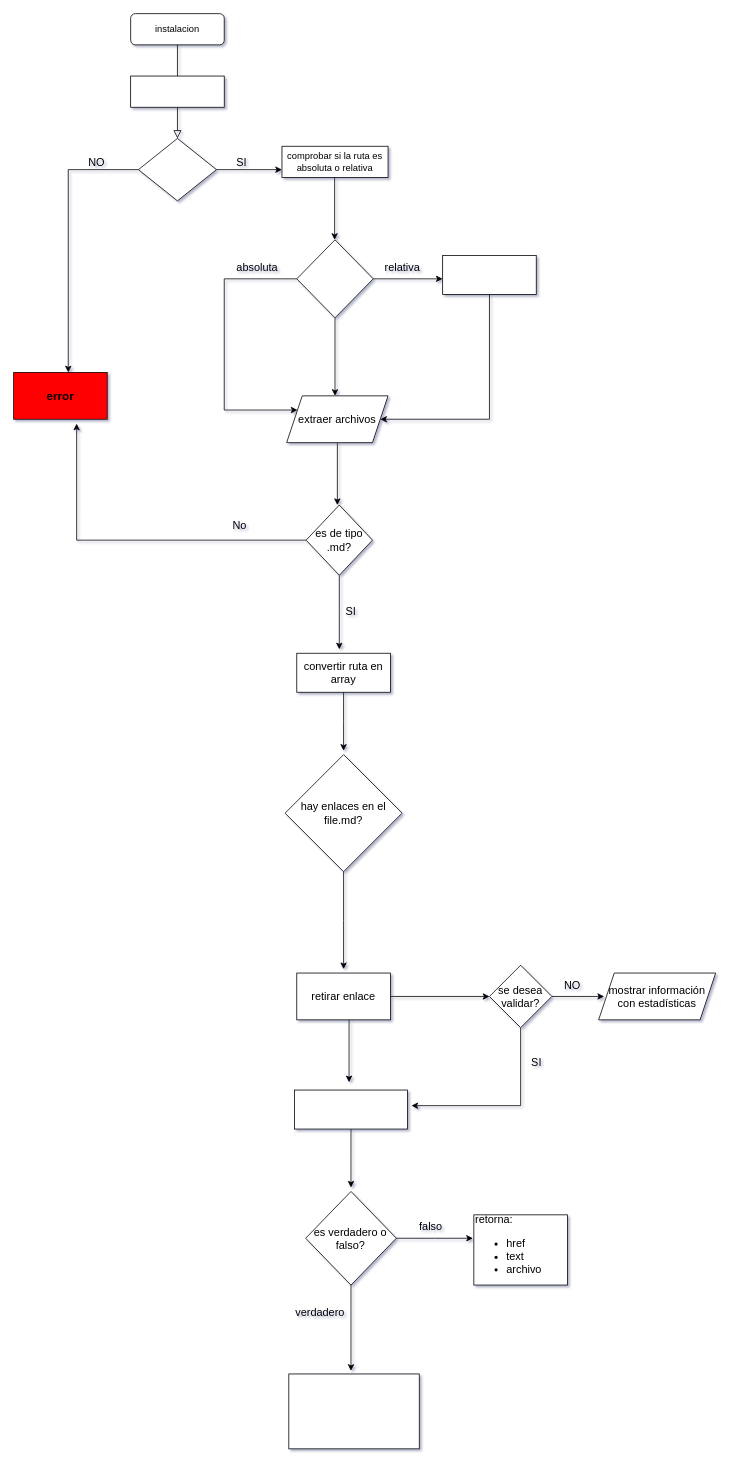
Some shapes in this 734 by 1467 pixel diagram are drawn without their labels. Here are the shapes that lost their labels. From the top down, the centre of each, then its label:
point (177, 91): validación del archivo
point (177, 169): el archivo existe?
point (334, 278): es relativa o absoluta?
point (489, 274): tomar ruta desde donde se invoque
point (351, 1109): devolver enlace en forma de objeto
point (353, 1411): retorna: url text mensase (fail u ok)
